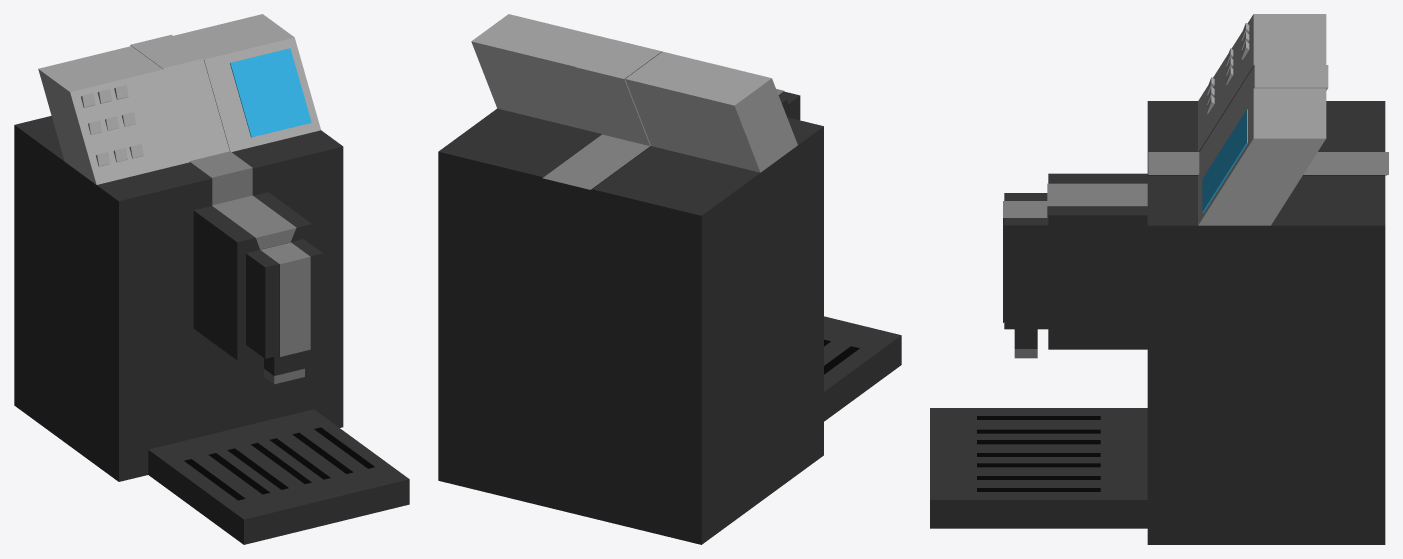
File: Coffee.fbx
3 views of the same model, side by side, from view 1: azimuth 30°, elevation 25°; view 2: azimuth 150°, elevation 25°; view 3: azimuth 270°, elevation 25° (orthographic). The views are drawn at different scales.
Visible parts, largest first — view 1: Cube; view 2: Cube; view 3: Cube.
Part boxes in pixels (x1,y1,x2,y2): Cube: (14, 14, 409, 544); Cube: (438, 14, 901, 544); Cube: (930, 14, 1388, 544).
Bounding box in the file's own units: 274 × 412 × 422.
